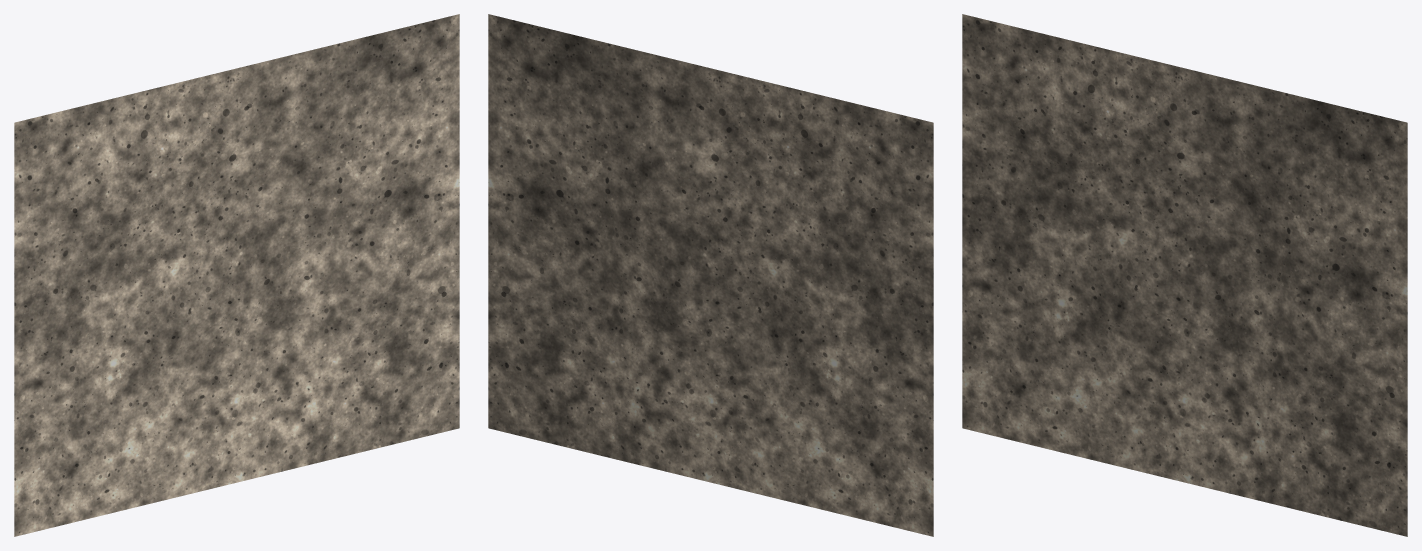
File: terrain.obj
3 renders of one model, left to right at view 1: azimuth 30°, elevation 25°; view 2: azimuth 150°, elevation 25°; view 3: azimuth 330°, elevation 25°, orthographic.
Parts seen in each view (by area): view 1: arena_terrain; view 2: arena_terrain; view 3: arena_terrain.
Part boxes in pixels (x1,y1,x2,y2): arena_terrain: [14, 14, 459, 536]; arena_terrain: [488, 14, 933, 536]; arena_terrain: [962, 14, 1407, 536].
Bounding box in the file's own units: 9.34 × 8.3 × 0.1347.
Materials: 1 (1 with a texture image).
